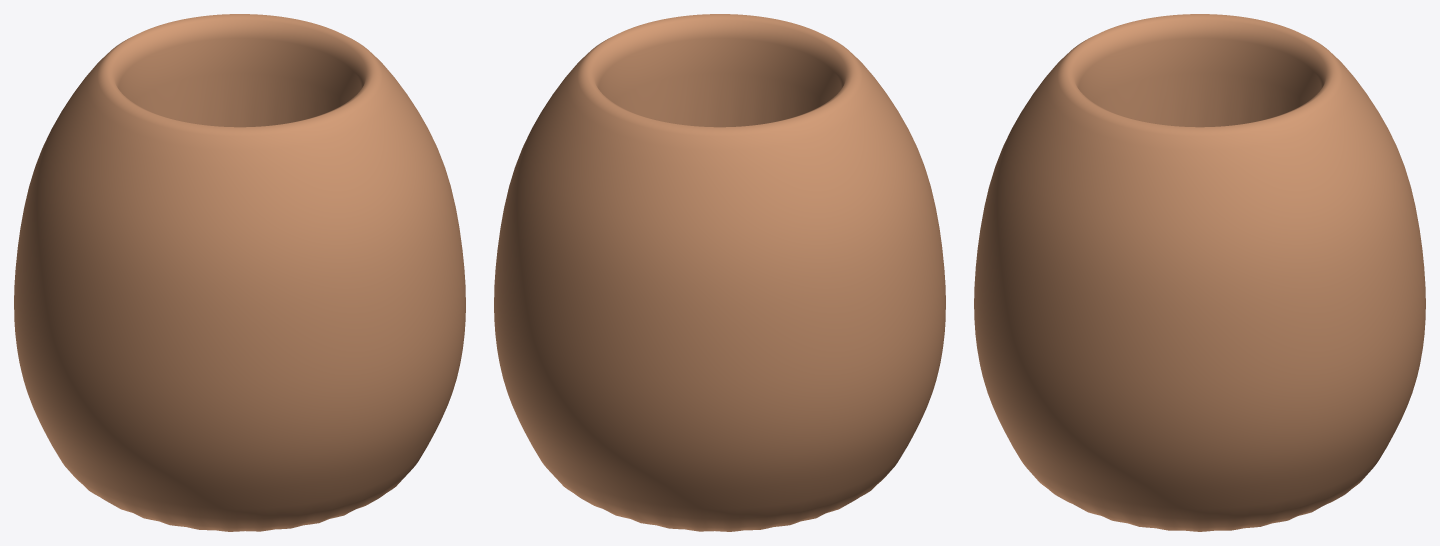
The model's file is M_PotDeco1.fbx.
The picture shows the model from 3 angles, left to right: view 1: azimuth 30°, elevation 25°; view 2: azimuth 150°, elevation 25°; view 3: azimuth 270°, elevation 25°; orthographic projection.
Parts seen in each view (by area): view 1: Cylindre; view 2: Cylindre; view 3: Cylindre.
Boxes of the visible parts, x1,y1,x2,y2 form: Cylindre: [14, 14, 465, 531]; Cylindre: [494, 14, 945, 531]; Cylindre: [974, 14, 1425, 531].
Bounding box in the file's own units: 136 × 138 × 136.
